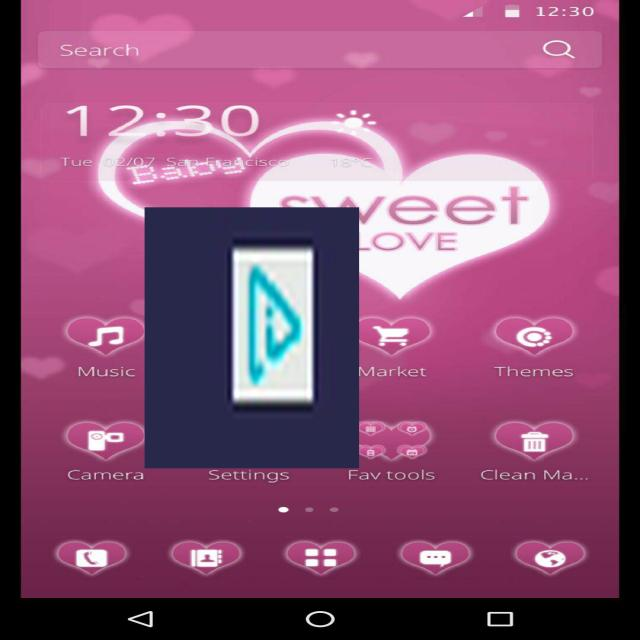sneaking: (145, 207, 359, 468)
